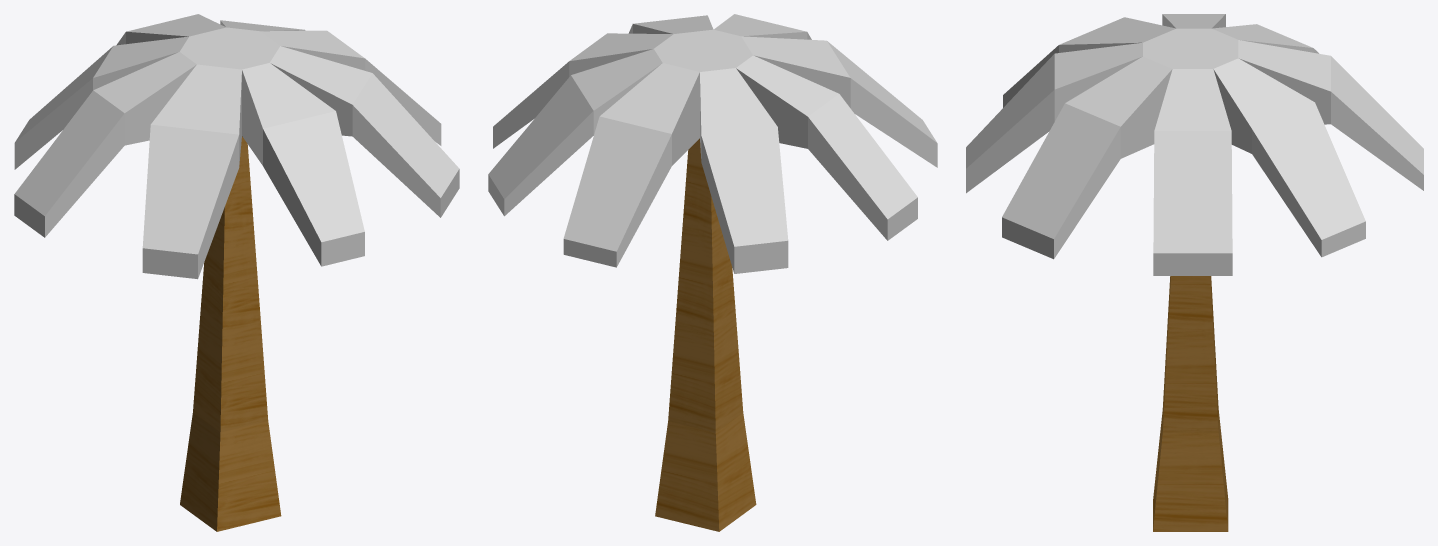
The model's file is palm.fbx.
3 renders of one model, left to right at view 1: azimuth 30°, elevation 25°; view 2: azimuth 150°, elevation 25°; view 3: azimuth 270°, elevation 25°, orthographic.
Visible parts, largest first — view 1: Cube.001, Cube; view 2: Cube.001, Cube; view 3: Cube.001, Cube.
Part boxes in pixels (x1,y1,x2,y2): Cube.001: [14, 14, 459, 279]; Cube: [180, 136, 281, 531]; Cube.001: [488, 14, 937, 273]; Cube: [655, 138, 756, 531]; Cube.001: [966, 14, 1423, 275]; Cube: [1153, 276, 1228, 531].
Bounding box in the file's own units: 320 × 360 × 320.
